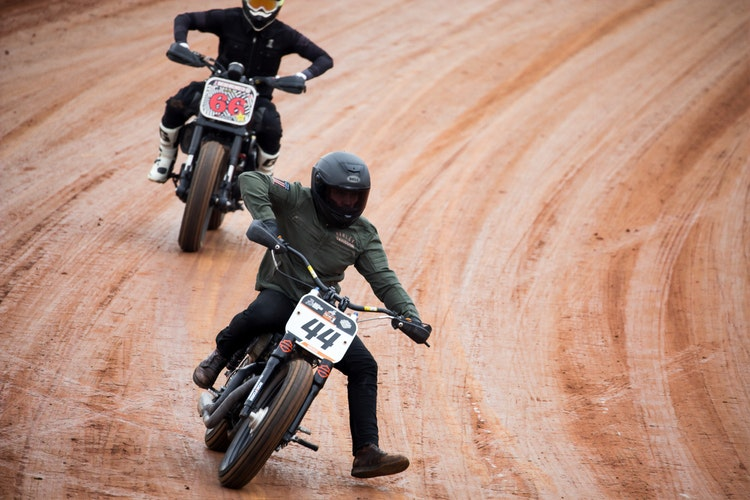helmet: (299, 149, 374, 220), (236, 1, 291, 39)
